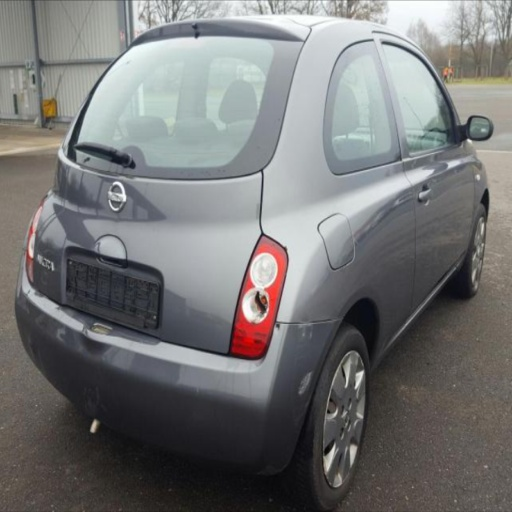scratch: (298, 371, 312, 397), (298, 324, 314, 340)
